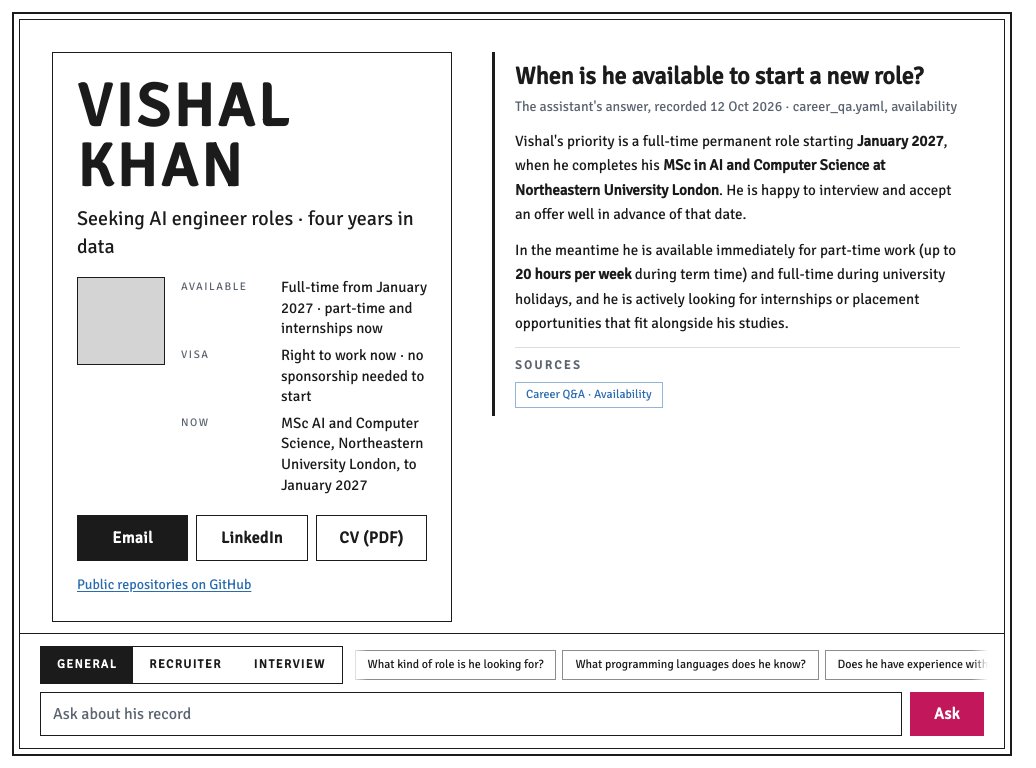
Test: Home › re-plots the same sheet when the layer changes
Click the button "Interview" at (290, 665), box [238,647,342,683]
(page scrolled)
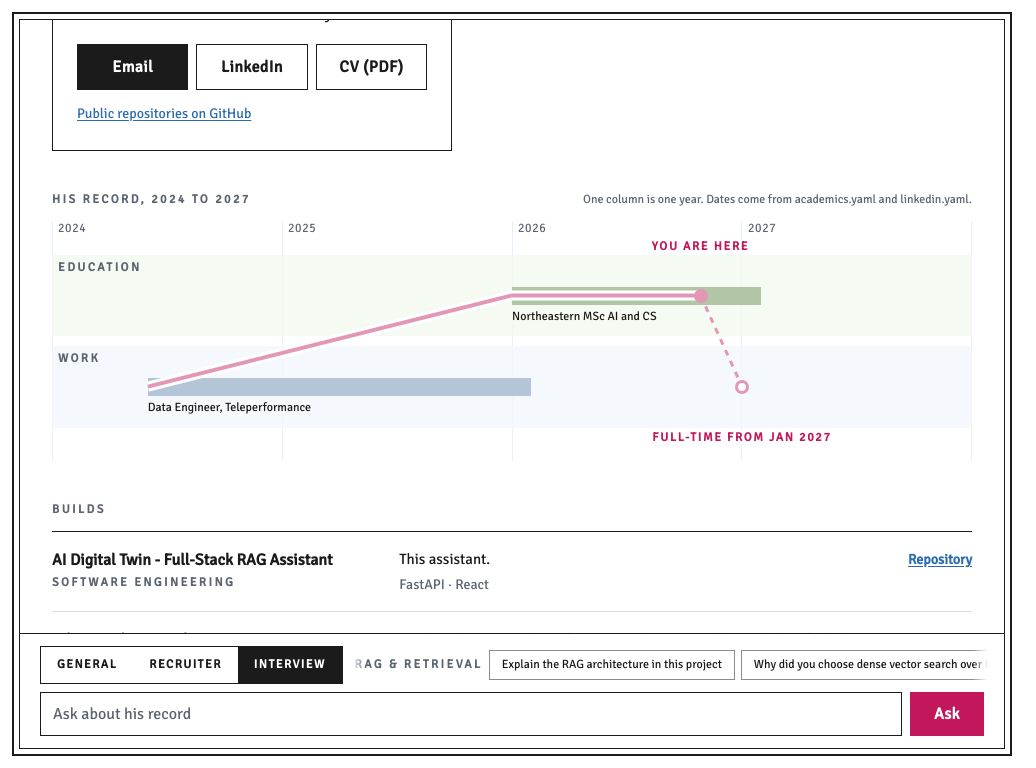
Expected: the element that starts with "His record," is shown, [52,191,972,461]
